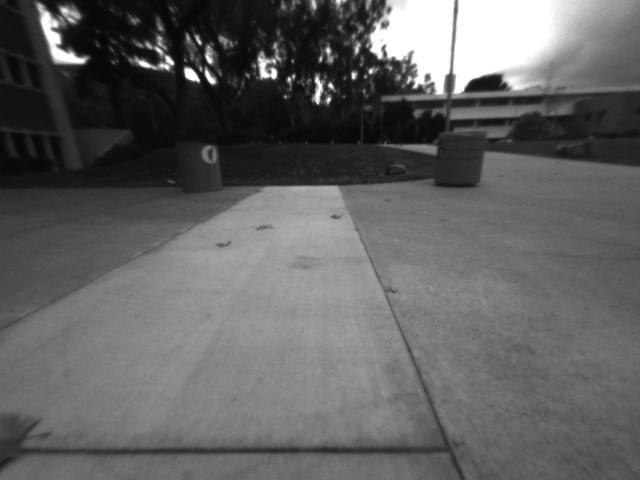trashcan: (429, 127, 486, 192), (175, 136, 226, 193)
